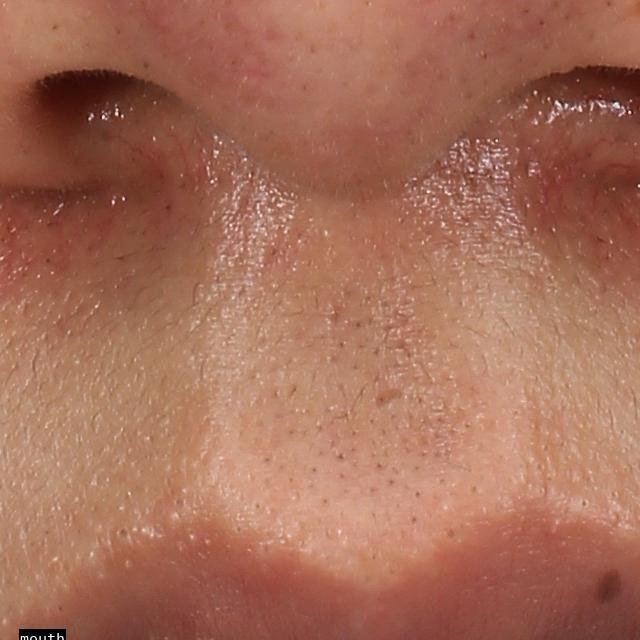atrophic_scar: (373, 388, 406, 410)
comedo: (115, 526, 130, 542)
nevus: (596, 567, 622, 608)
